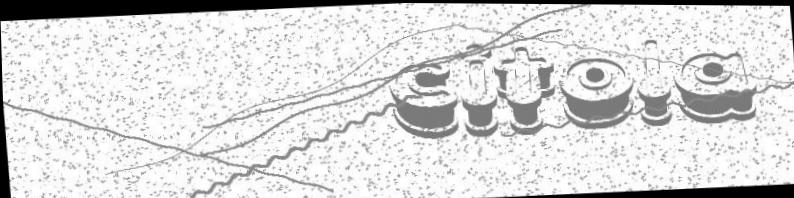a: (668, 45, 766, 131)
c: (380, 55, 461, 139)
i: (453, 35, 502, 146)
l: (633, 34, 681, 131)
o: (558, 48, 636, 132)
t: (490, 39, 558, 136)
